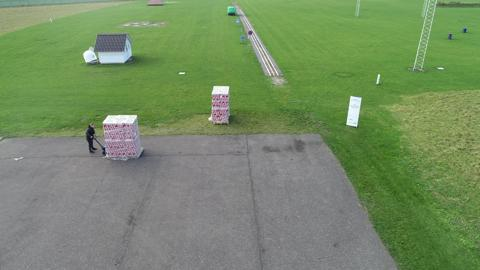RockwoolPallet: (101, 116, 144, 161)
